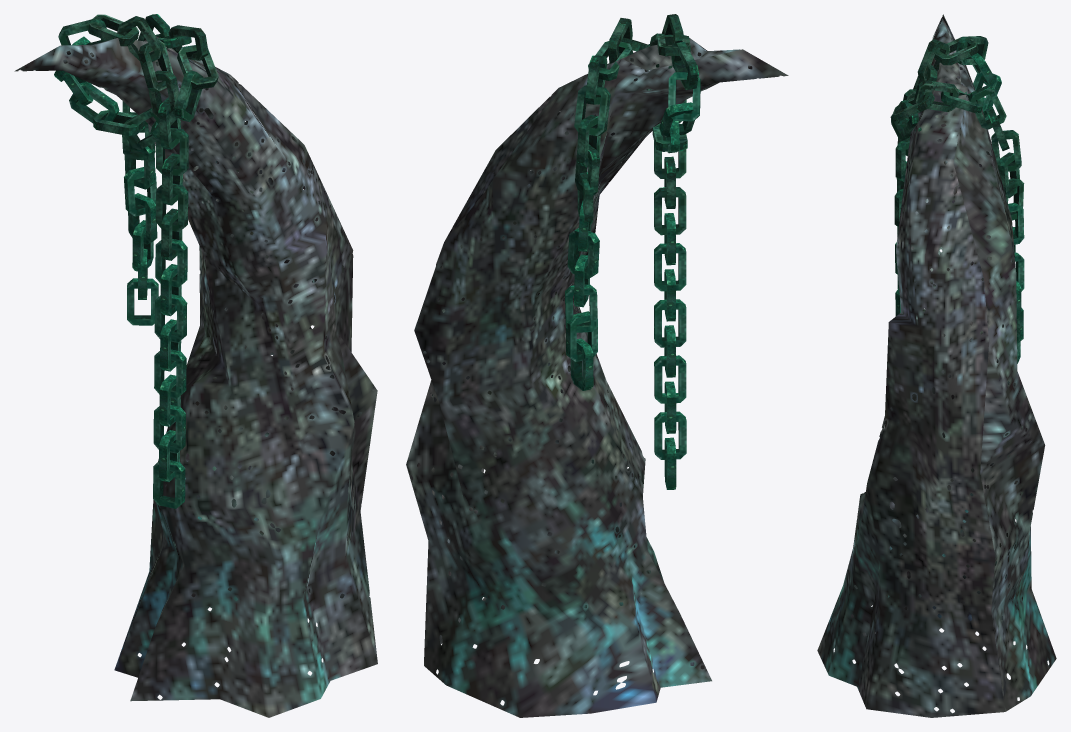
Rendered from 5st_cliff_hom01.fbx.
3 views of the same model, side by side, from view 1: azimuth 30°, elevation 25°; view 2: azimuth 150°, elevation 25°; view 3: azimuth 270°, elevation 25° (orthographic). The views are drawn at different scales.
Parts seen in each view (by area): view 1: cliff_hom01; view 2: cliff_hom01; view 3: cliff_hom01.
Part boxes in pixels (x1,y1,x2,y2): cliff_hom01: (14, 14, 377, 717); cliff_hom01: (406, 14, 788, 717); cliff_hom01: (817, 14, 1056, 717).
Bounding box in the file's own units: 12.01 × 21.54 × 8.02.
